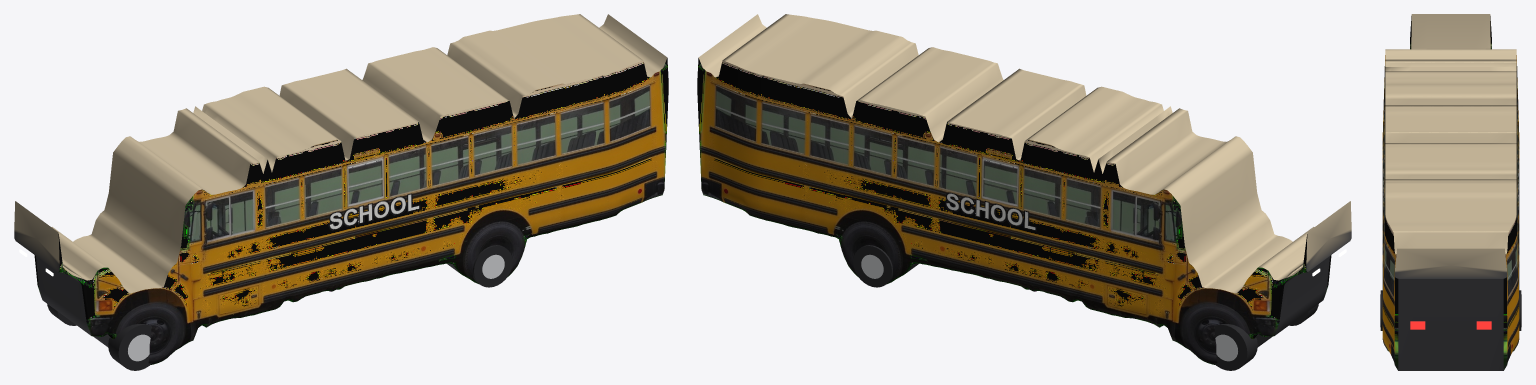
File: schoolbus.glb
The picture shows the model from 3 angles, left to right: view 1: azimuth 30°, elevation 25°; view 2: azimuth 150°, elevation 25°; view 3: azimuth 270°, elevation 25°; orthographic projection. The views are drawn at different scales.
Parts seen in each view (by area): view 1: schoolbus; view 2: schoolbus; view 3: schoolbus.
Part boxes in pixels (x1,y1,x2,y2): schoolbus: (14,14,668,370); schoolbus: (697,14,1351,370); schoolbus: (1380,14,1521,370).
Bounding box in the file's own units: 8.03 × 2.34 × 1.8.
Materials: 8 (2 with a texture image).
